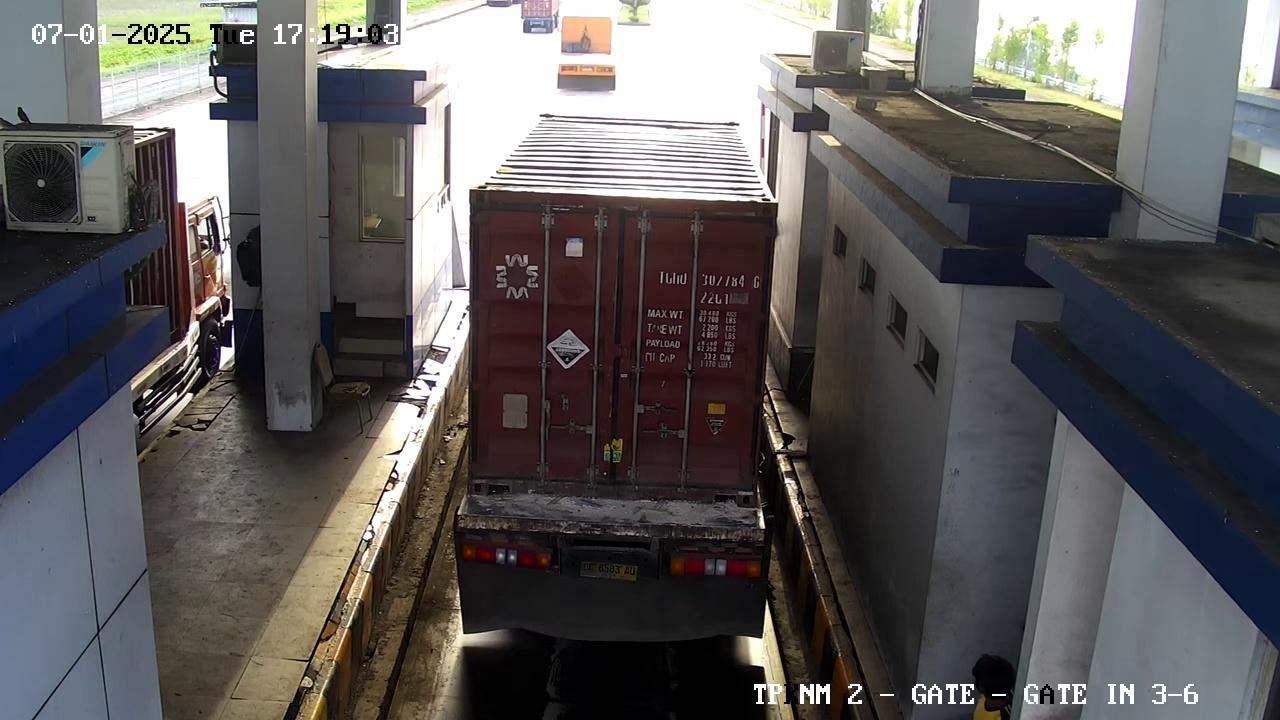Container_ID: (636, 250, 781, 315)
plate_number: (575, 561, 640, 583)
